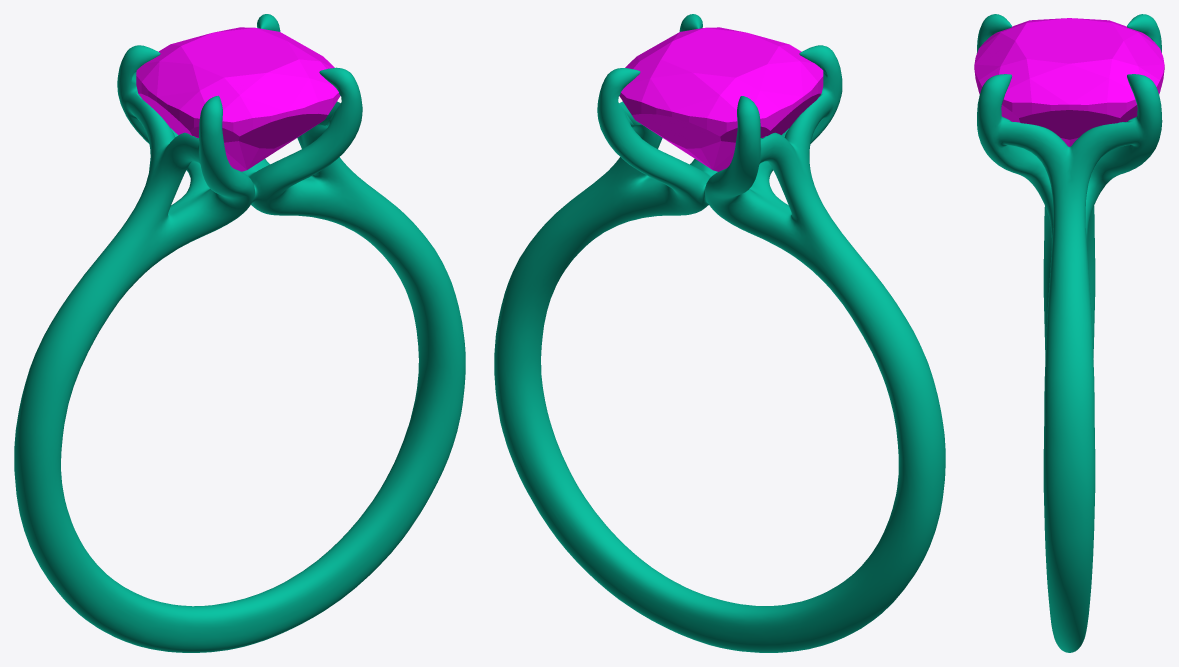
The model's file is BE1829_CU_200ct_RENDER.glb.
3 renders of one model, left to right at view 1: azimuth 30°, elevation 25°; view 2: azimuth 150°, elevation 25°; view 3: azimuth 270°, elevation 25°, orthographic.
Visible parts, largest first — view 1: Metal 01, CS_Diamond_Cushion; view 2: Metal 01, CS_Diamond_Cushion; view 3: Metal 01, CS_Diamond_Cushion.
Part boxes in pixels (box(x1,y1,x2,y2)): Metal 01: box(14, 14, 465, 652); CS_Diamond_Cushion: box(136, 27, 340, 171); Metal 01: box(494, 14, 945, 652); CS_Diamond_Cushion: box(619, 27, 823, 171); Metal 01: box(976, 14, 1162, 652); CS_Diamond_Cushion: box(974, 18, 1164, 146).
Bounding box in the file's own units: 19.98 × 25.62 × 7.5.
